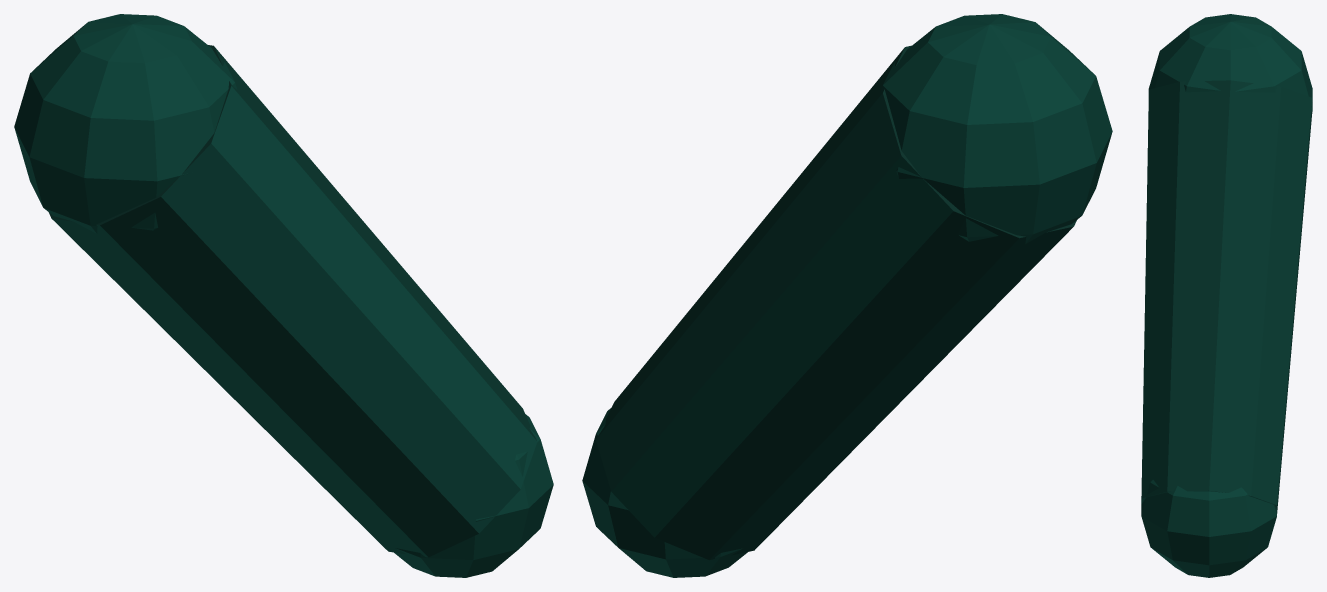
Rendered from SM_brachiosaurus_fore_r_Lower.fbx.
3 views of the same model, side by side, from view 1: azimuth 30°, elevation 25°; view 2: azimuth 150°, elevation 25°; view 3: azimuth 270°, elevation 25° (orthographic). The views are drawn at different scales.
Visible parts, largest first — view 1: SM_brachiosaurus_fore_r_Lower export; view 2: SM_brachiosaurus_fore_r_Lower export; view 3: SM_brachiosaurus_fore_r_Lower export.
Part boxes in pixels (<box>): SM_brachiosaurus_fore_r_Lower export: <box>14,14,553,577</box>; SM_brachiosaurus_fore_r_Lower export: <box>582,14,1112,577</box>; SM_brachiosaurus_fore_r_Lower export: <box>1141,14,1312,577</box>.
Size of the model in its own units: 169 by 69.59 by 198.
